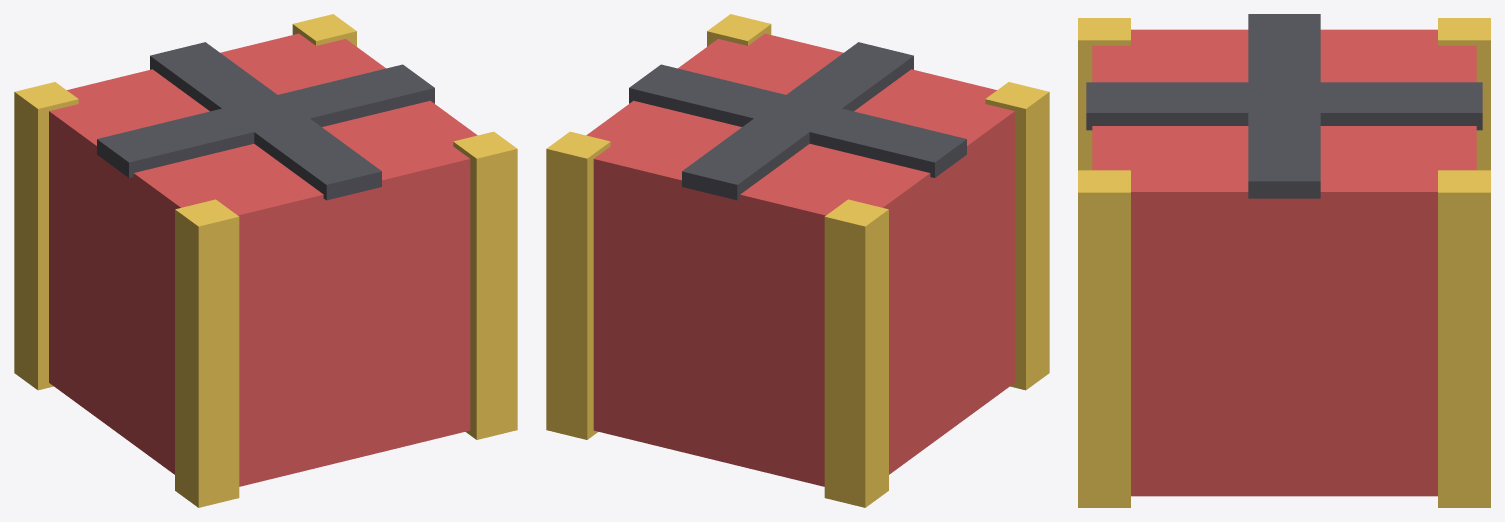
Rendered from prop_airdrop_crate.glb.
The picture shows the model from 3 angles, left to right: view 1: azimuth 30°, elevation 25°; view 2: azimuth 150°, elevation 25°; view 3: azimuth 270°, elevation 25°; orthographic projection. The views are drawn at different scales.
Parts seen in each view (by area): view 1: SM_Airdrop_Crate; view 2: SM_Airdrop_Crate; view 3: SM_Airdrop_Crate.
Boxes of the visible parts, box(x1,y1,x2,y2) form: SM_Airdrop_Crate: box(14, 14, 517, 507); SM_Airdrop_Crate: box(546, 14, 1049, 507); SM_Airdrop_Crate: box(1078, 14, 1490, 507).
Size of the model in its own units: 1.72 by 1.49 by 1.72.
